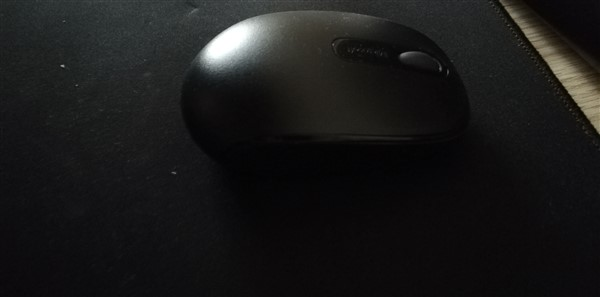mouse: (171, 5, 483, 164)
